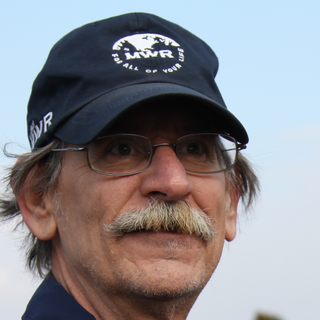eye: (100, 140, 142, 161), (177, 140, 210, 158)
